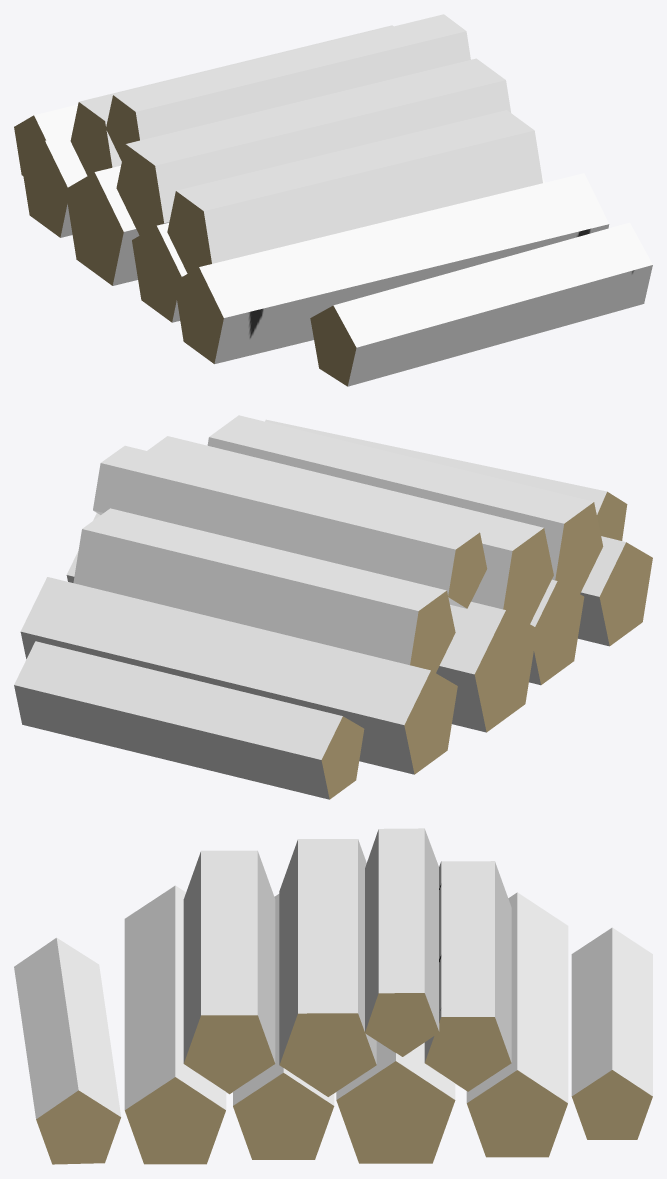
Rendered from Birch_Firewood_Pile_Snow_01.fbx.
The picture shows the model from 3 angles, top to bottom: view 1: azimuth 30°, elevation 25°; view 2: azimuth 150°, elevation 25°; view 3: azimuth 270°, elevation 25°; orthographic projection. The views are drawn at different scales.
Parts seen in each view (by area): view 1: Birch_Firewood_Pile_Snow_01; view 2: Birch_Firewood_Pile_Snow_01; view 3: Birch_Firewood_Pile_Snow_01.
Part boxes in pixels (<box>): Birch_Firewood_Pile_Snow_01: <box>14,14,652,386</box>; Birch_Firewood_Pile_Snow_01: <box>14,415,652,799</box>; Birch_Firewood_Pile_Snow_01: <box>14,828,652,1164</box>.
Bounding box in the file's own units: 58.99 × 23.41 × 83.14.
